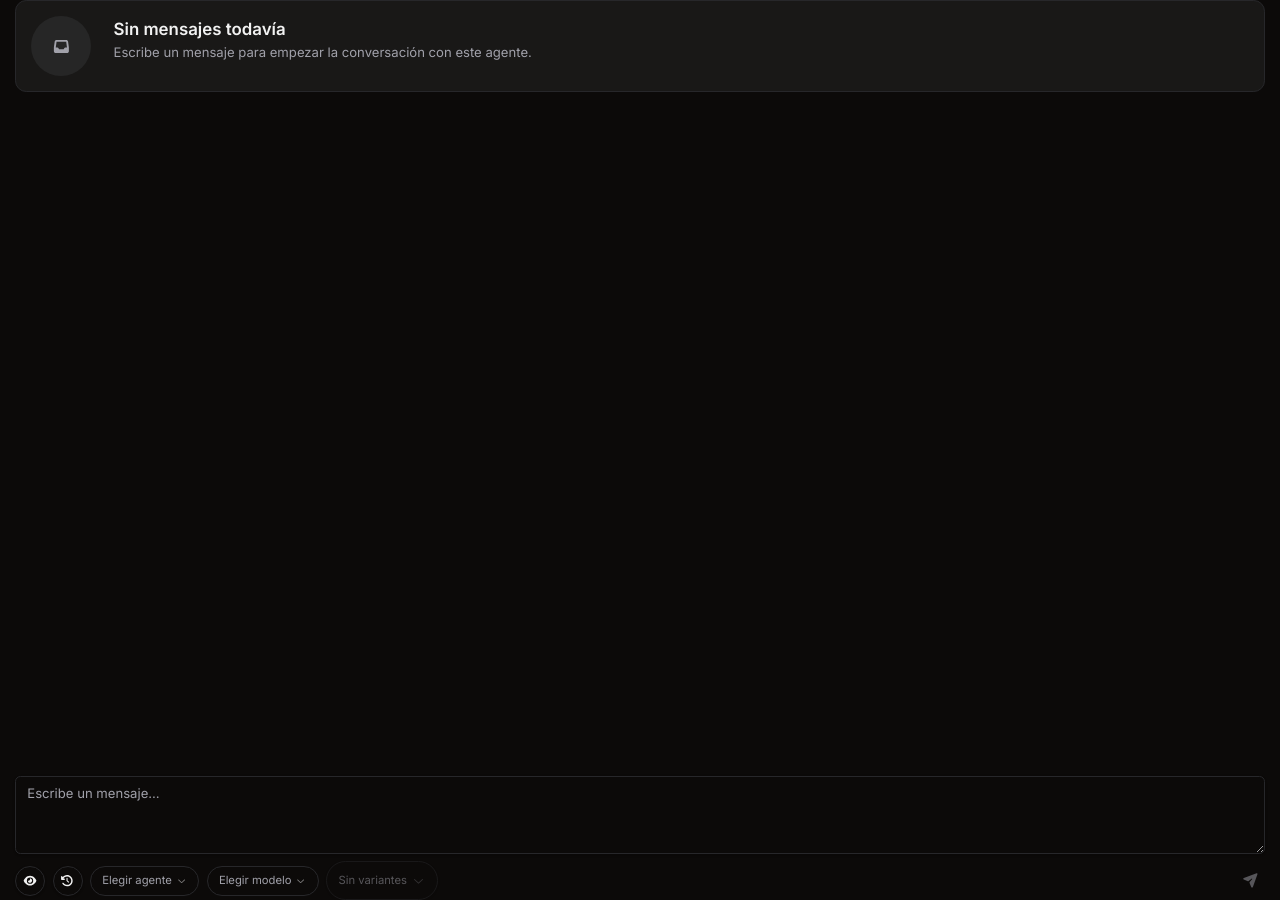
Test: ChatPanel — historial en modal (U2) › muestra el estado vacío del historial cuando no hay mensajes
The image size is (1280, 900).
Click the button named "Historial de mensajes". click: (68, 880)
box: x1=52 y1=866 x2=82 y2=896
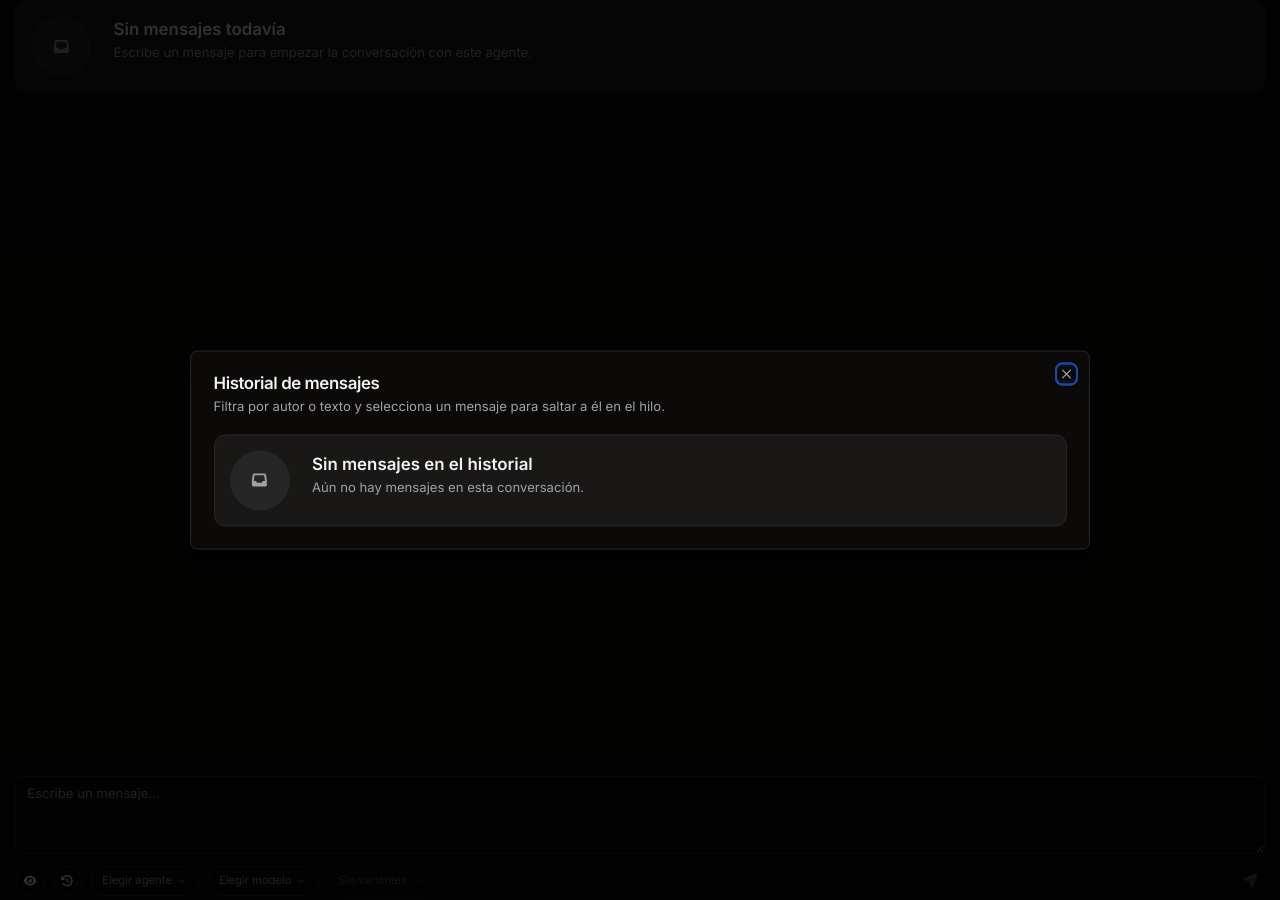
Expected: the heading "Sin mensajes en el historial" is shown, x1=312 y1=450 x2=533 y2=476
